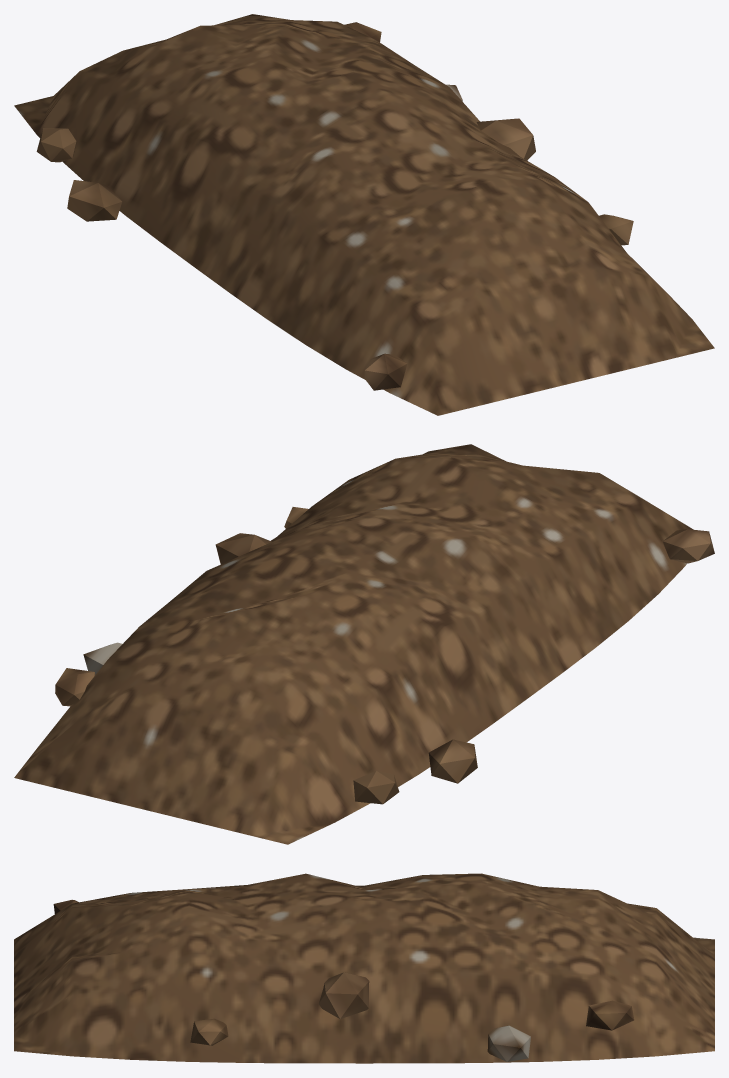
File: SE_Grave_Fresh.glb
3 views of the same model, one above another, from view 1: azimuth 30°, elevation 25°; view 2: azimuth 150°, elevation 25°; view 3: azimuth 270°, elevation 25° (orthographic). The views are drawn at different scales.
Visible parts, largest first — view 1: SE_Grave_Fresh; view 2: SE_Grave_Fresh; view 3: SE_Grave_Fresh.
Part boxes in pixels (x1=…): SE_Grave_Fresh: x1=14, y1=14, x2=714, y2=415; SE_Grave_Fresh: x1=14, y1=444, x2=714, y2=844; SE_Grave_Fresh: x1=14, y1=873, x2=714, y2=1063.
Size of the model in its own units: 1.07 by 0.3548 by 2.
1 material, 1 textured.
